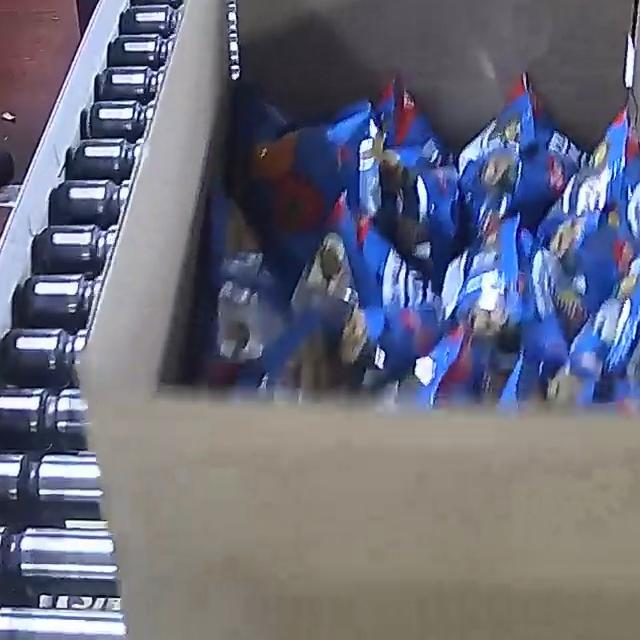paprika: (207, 66, 640, 416)
